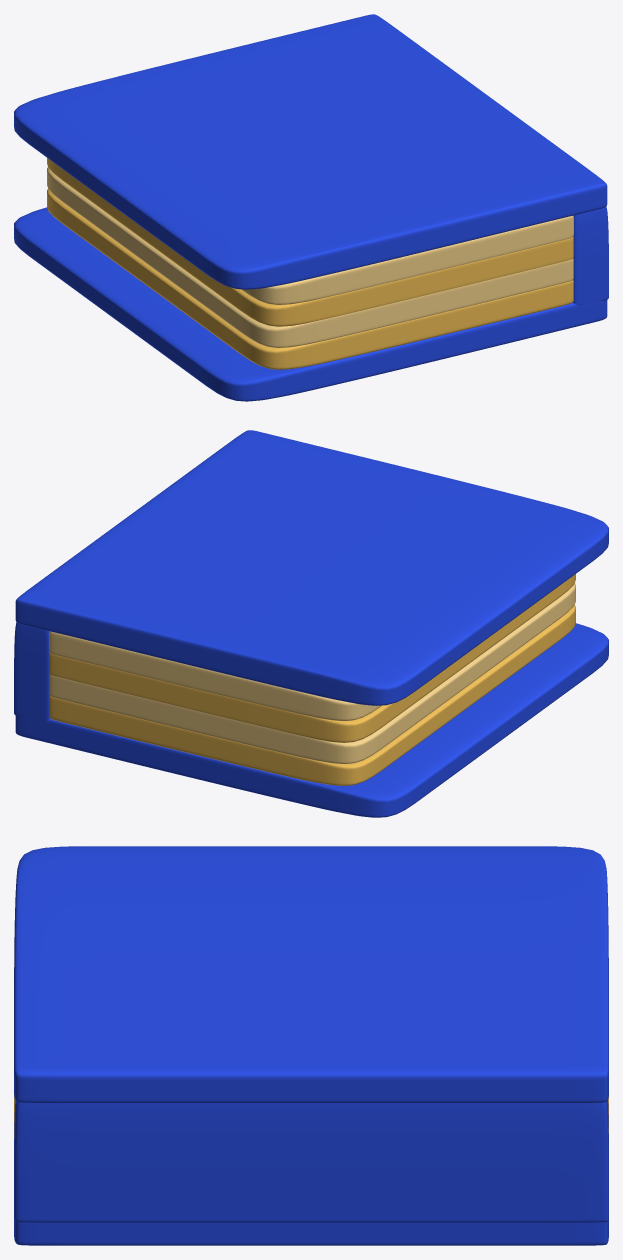
The model's file is папка3.fbx.
The picture shows the model from 3 angles, top to bottom: view 1: azimuth 30°, elevation 25°; view 2: azimuth 150°, elevation 25°; view 3: azimuth 270°, elevation 25°; orthographic projection. The views are drawn at different scales.
Parts seen in each view (by area): view 1: Cube_2; view 2: Cube_2; view 3: Cube_2.
Boxes of the visible parts, x1=… form: Cube_2: x1=14, y1=14, x2=608, y2=401; Cube_2: x1=14, y1=430, x2=608, y2=817; Cube_2: x1=14, y1=846, x2=608, y2=1245.
Bounding box in the file's own units: 141 × 49.12 × 151.
